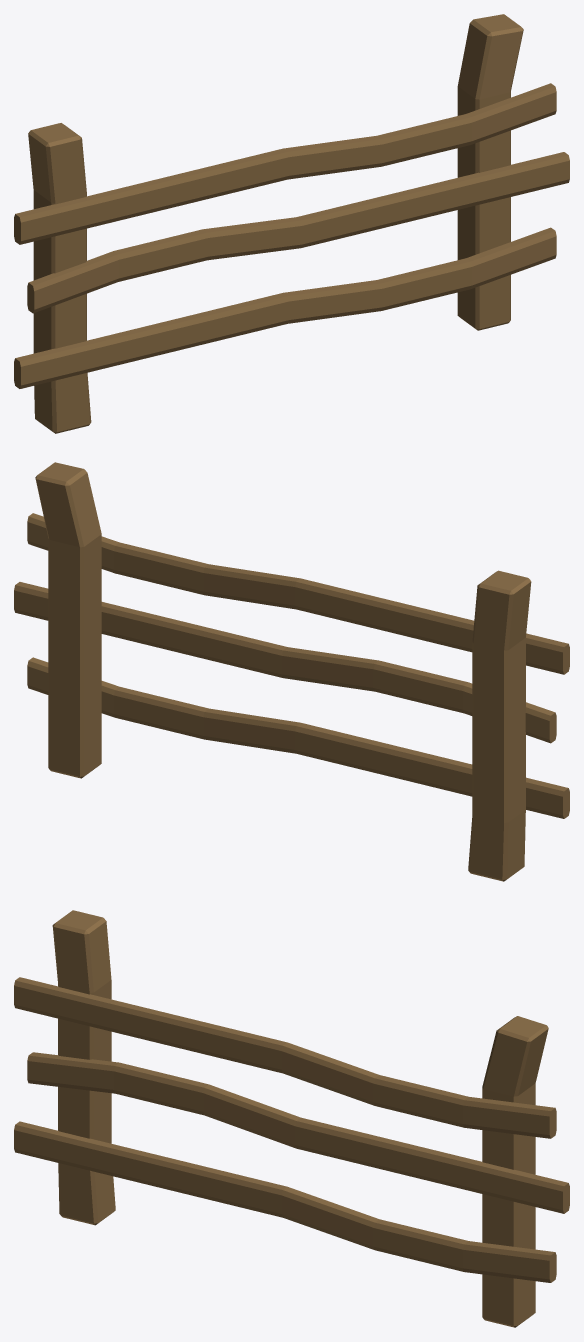
The model's file is cerca1.fbx.
The picture shows the model from 3 angles, top to bottom: view 1: azimuth 30°, elevation 25°; view 2: azimuth 150°, elevation 25°; view 3: azimuth 330°, elevation 25°; orthographic projection.
Visible parts, largest first — view 1: Cube; view 2: Cube; view 3: Cube.
Boxes of the visible parts, bbox=[...] form: Cube: bbox=[14, 14, 569, 433]; Cube: bbox=[14, 462, 569, 881]; Cube: bbox=[14, 910, 569, 1327].
Size of the model in its own units: 1030 by 528 by 91.39.
